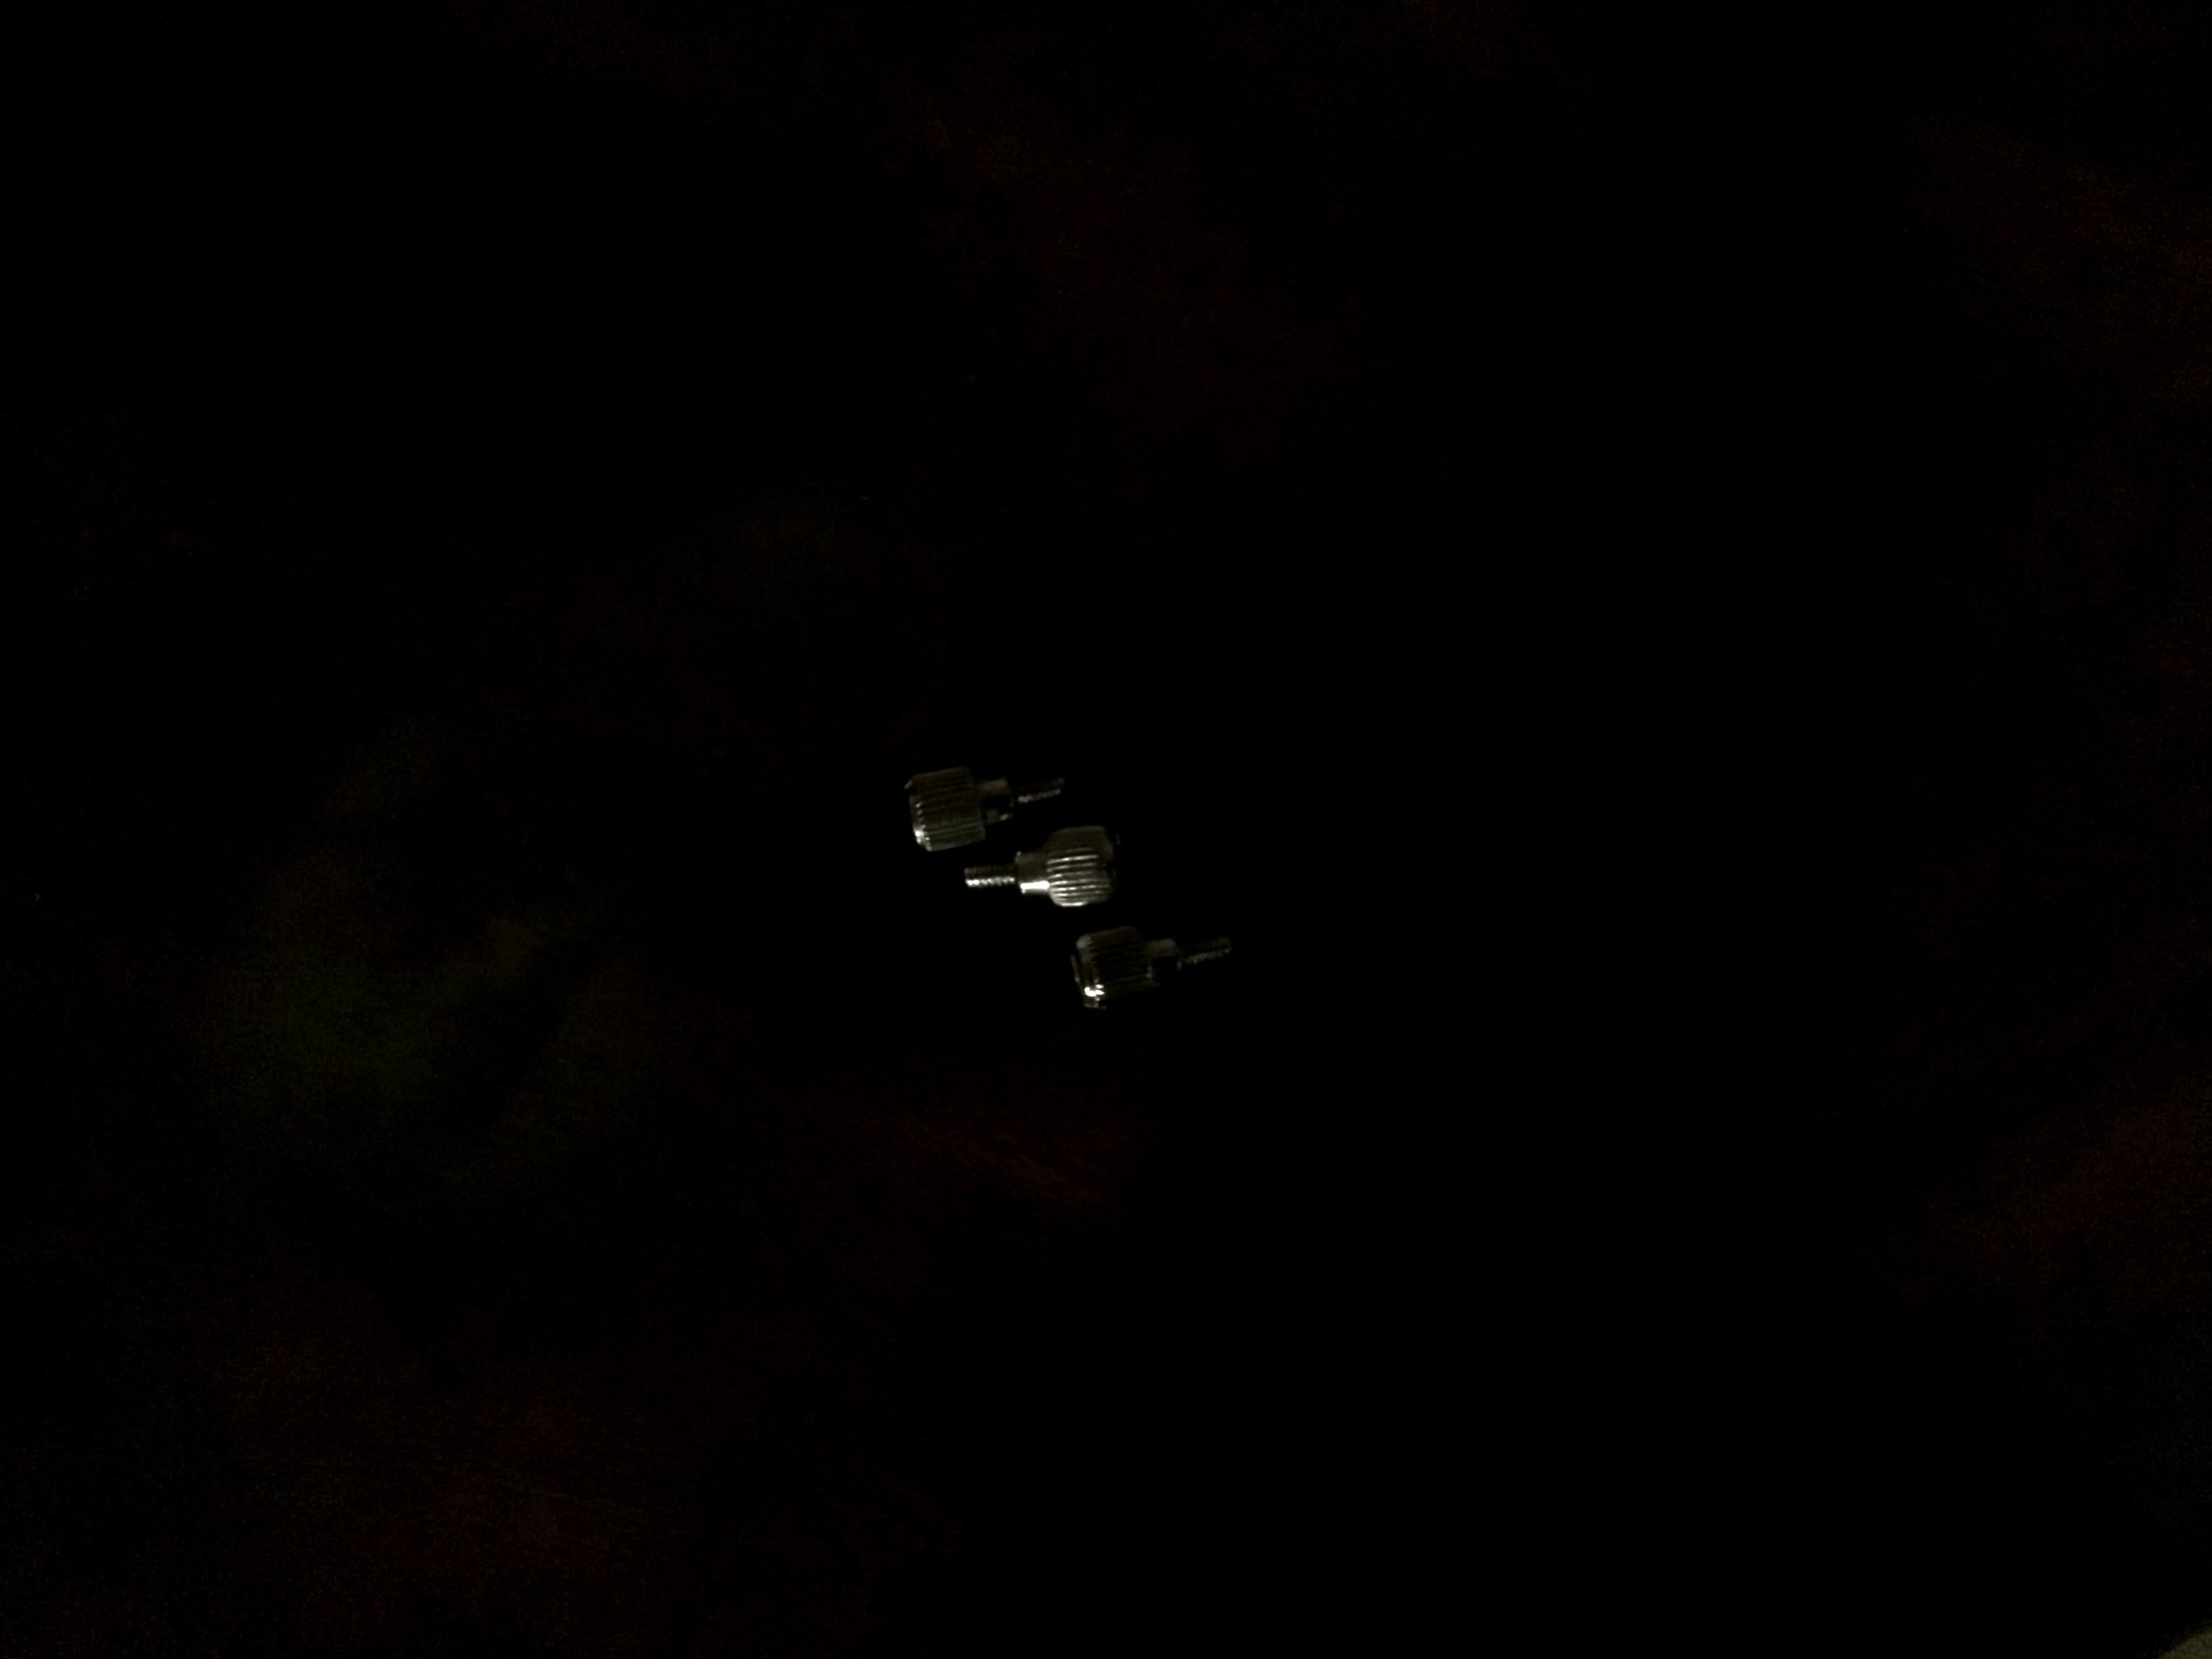Space-debris-small: (860, 735, 1071, 852), (1049, 917, 1251, 1037), (942, 809, 1118, 934)
